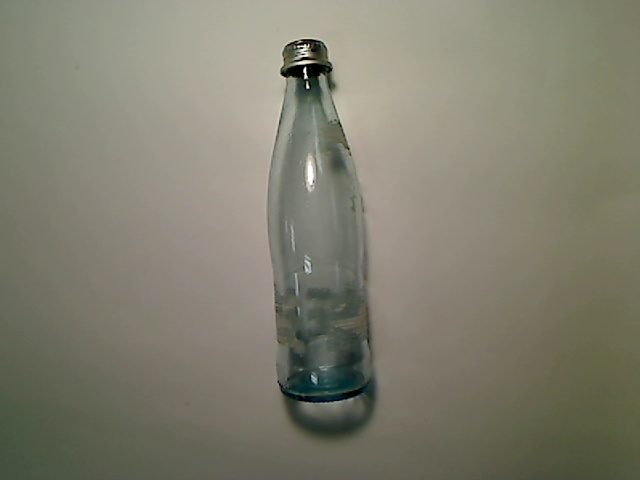bottle: (266, 36, 374, 405)
